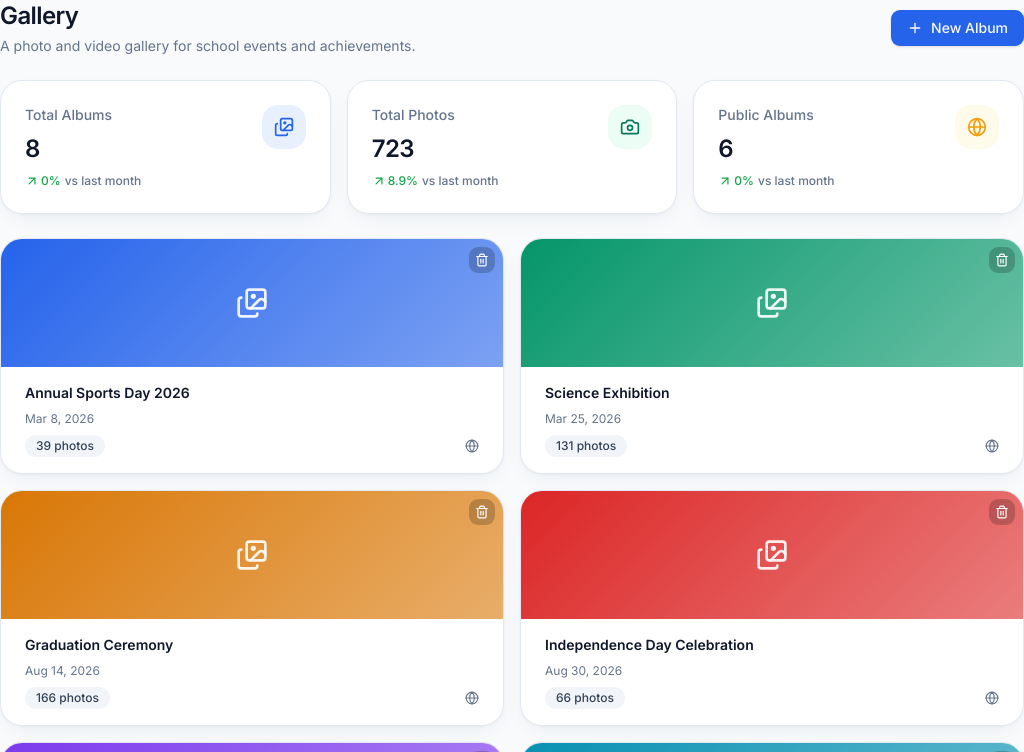
Test: GalleryPage — role-gated album creation › rejects a title shorter than 2 characters via zod validation
Step 1. Click the button "New Album" → coordinates (958, 28), box left=891, top=10, right=1023, bottom=46
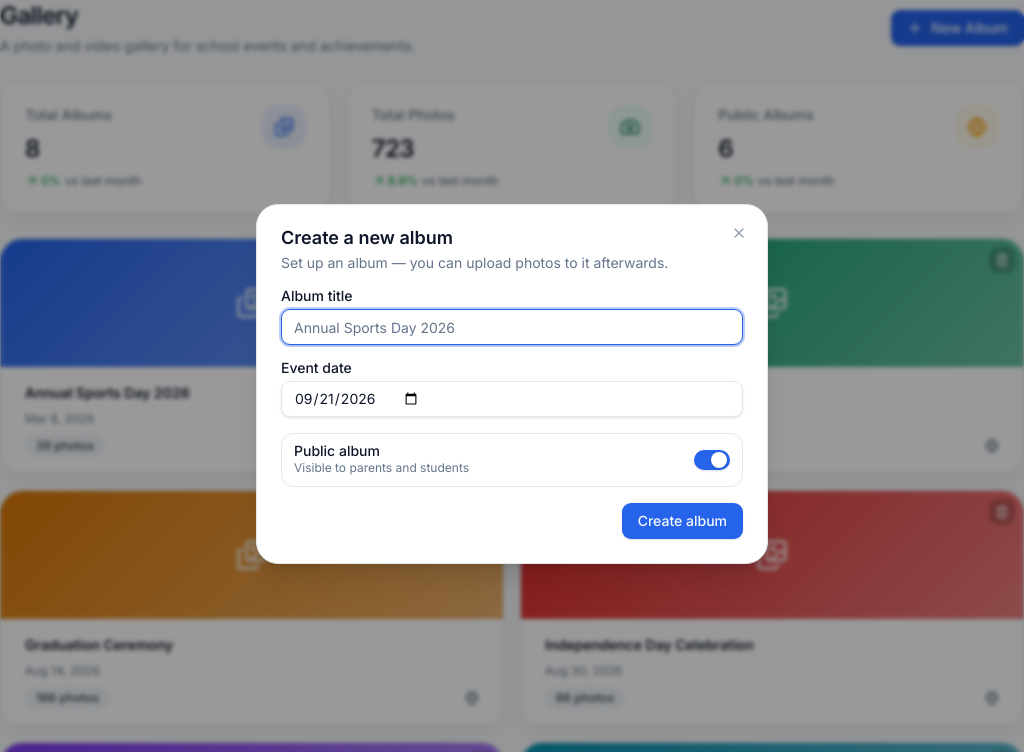
Step 2. Type "A" into the field labelled "Album title" → coordinates (512, 327), box left=281, top=309, right=743, bottom=345
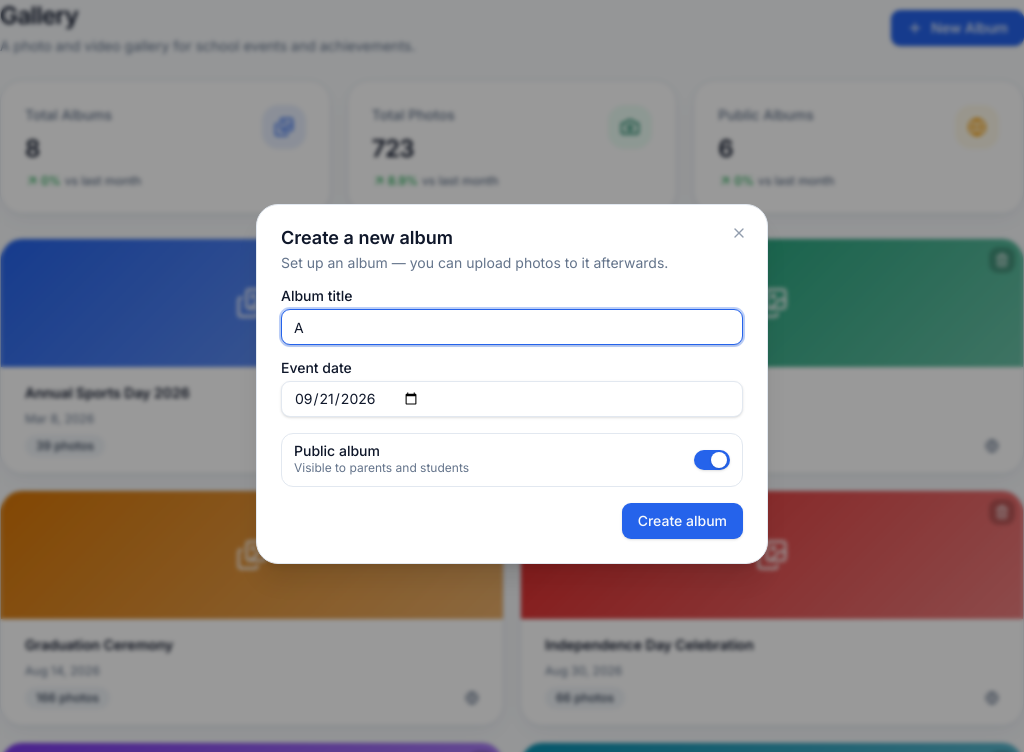
Step 3. Click the button "Create album" → coordinates (682, 521), box left=622, top=503, right=743, bottom=539
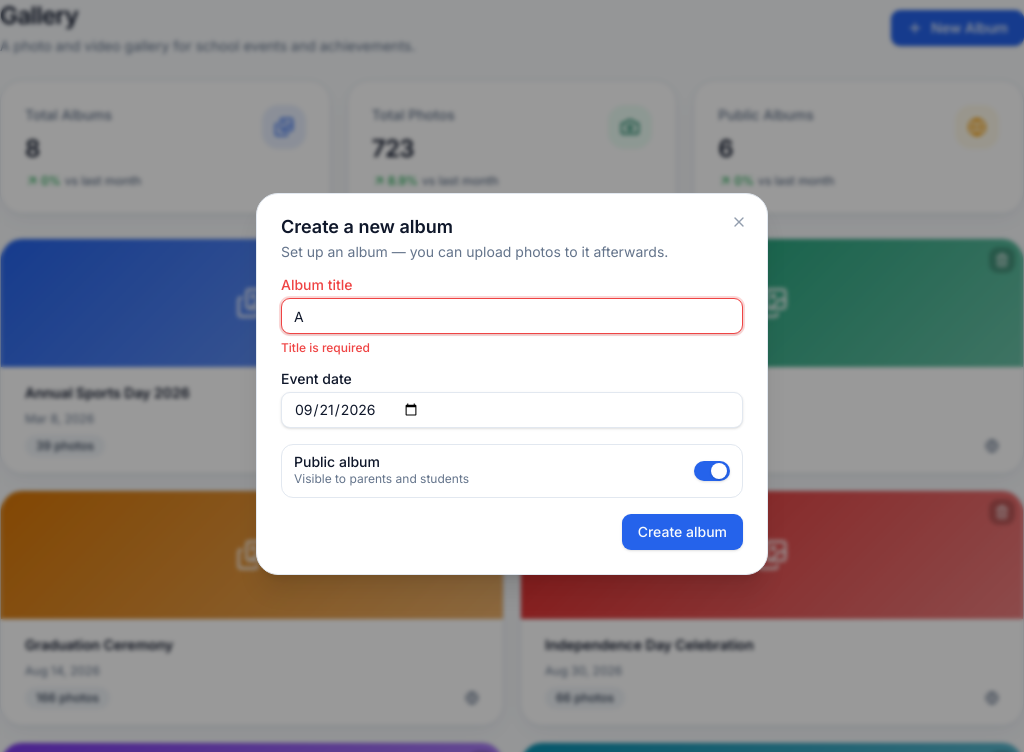
Check: the text "Title is required" is shown, box left=281, top=340, right=370, bottom=355
